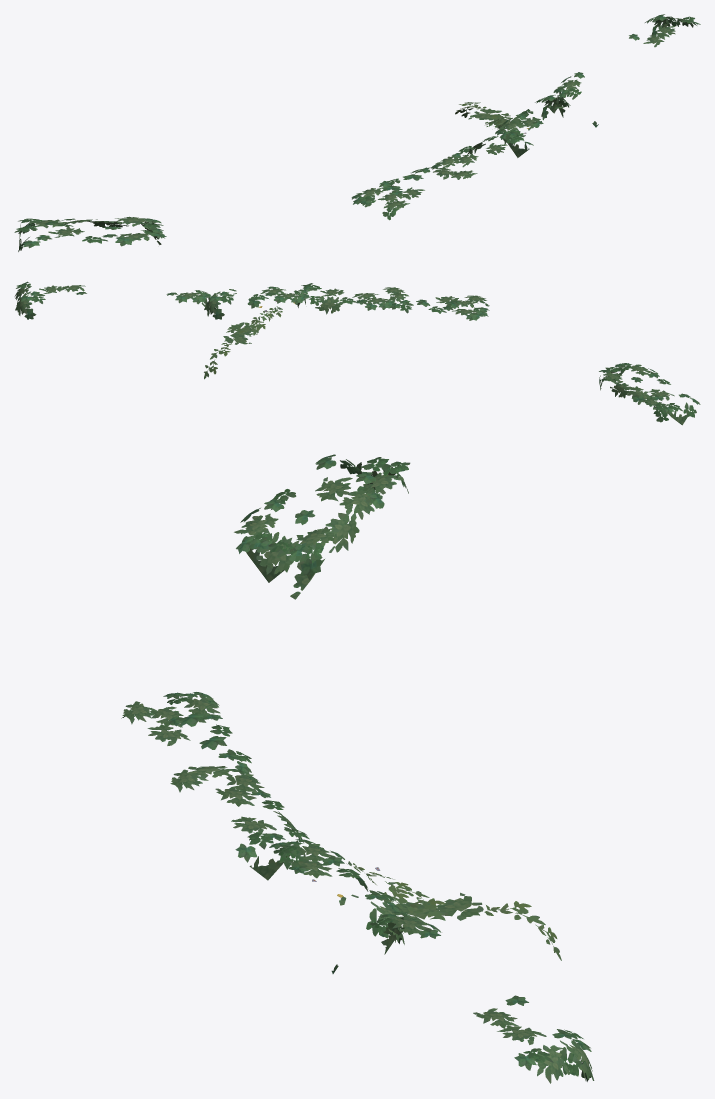
Rendered from pref_sm_beach_bk_pointmol_grassplant08a_lv1.fbx.
3 views of the same model, one above another, from view 1: azimuth 30°, elevation 25°; view 2: azimuth 150°, elevation 25°; view 3: azimuth 270°, elevation 25° (orthographic). The views are drawn at different scales.
Parts seen in each view (by area): view 1: pref_sm_beach_bk_pointmol_grassplant08a_lv1; view 2: pref_sm_beach_bk_pointmol_grassplant08a_lv1; view 3: pref_sm_beach_bk_pointmol_grassplant08a_lv1.
Part boxes in pixels (x1=…): pref_sm_beach_bk_pointmol_grassplant08a_lv1: x1=14, y1=14, x2=700, y2=251; pref_sm_beach_bk_pointmol_grassplant08a_lv1: x1=14, y1=281, x2=700, y2=425; pref_sm_beach_bk_pointmol_grassplant08a_lv1: x1=121, y1=454, x2=594, y2=1083.
Bounding box in the file's own units: 28.32 × 2.01 × 9.19.
